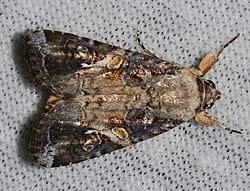army worm adult: (27, 28, 241, 171)
